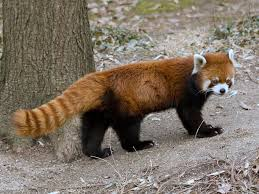redPanda: (11, 47, 244, 164)
